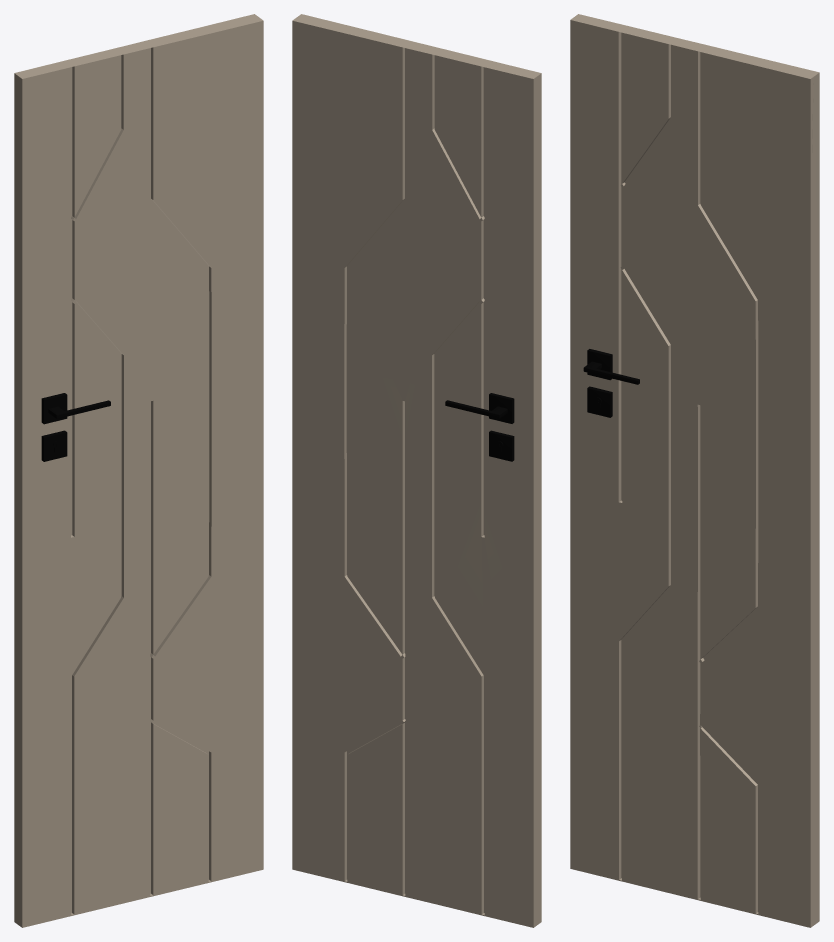
File: RP_2_full1_door.glb
The picture shows the model from 3 angles, left to right: view 1: azimuth 30°, elevation 25°; view 2: azimuth 150°, elevation 25°; view 3: azimuth 330°, elevation 25°; orthographic projection.
Visible parts, largest first — view 1: RP_2__1_door_; view 2: RP_2__1_door_; view 3: RP_2__1_door_.
Part boxes in pixels (left/top/right/bottom): RP_2__1_door_: left=14, top=14, right=263, bottom=927; RP_2__1_door_: left=292, top=14, right=541, bottom=927; RP_2__1_door_: left=570, top=14, right=819, bottom=927.
Bounding box in the file's own units: 0.523 × 1.76 × 0.1089.
1 material, 1 textured.
